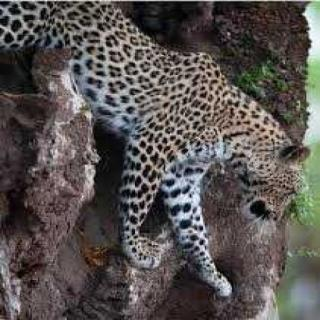Leopard: (20, 4, 312, 272)
